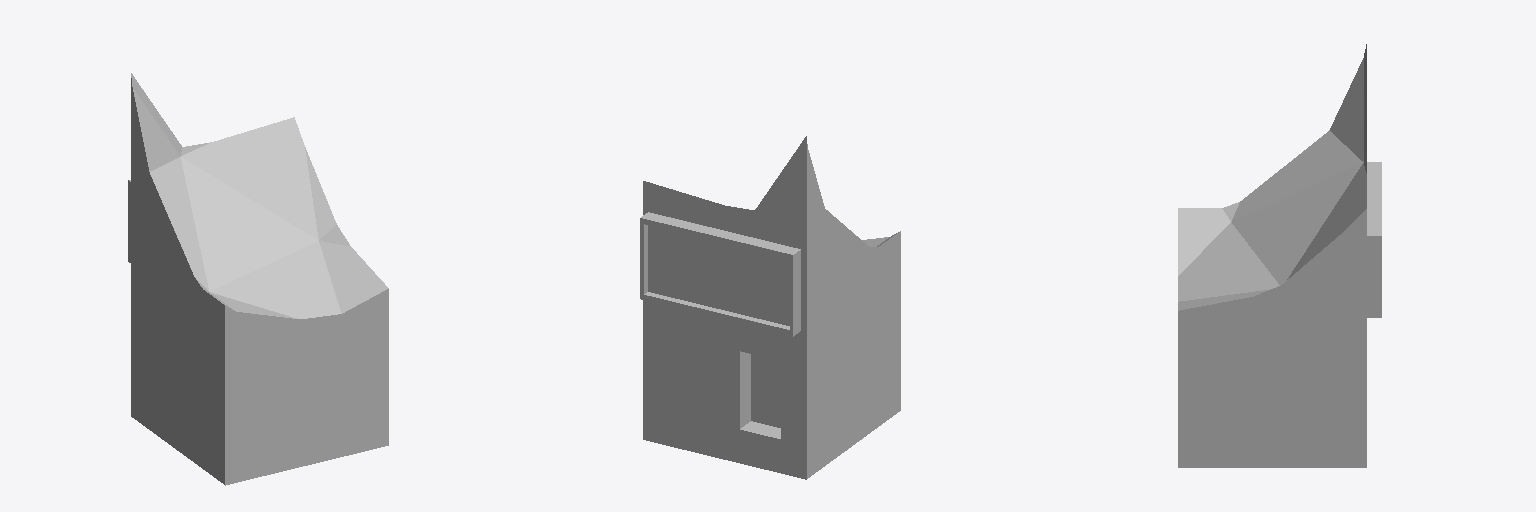
Rendered from building03.obj.
3 views of the same model, side by side, from view 1: azimuth 30°, elevation 25°; view 2: azimuth 150°, elevation 25°; view 3: azimuth 270°, elevation 25° (orthographic).
Parts seen in each view (by area): view 1: Cube.002_Cube.003; view 2: Cube.002_Cube.003; view 3: Cube.002_Cube.003.
Boxes of the visible parts, <box> form: Cube.002_Cube.003: <box>128,73,388,485</box>; Cube.002_Cube.003: <box>640,136,900,479</box>; Cube.002_Cube.003: <box>1178,44,1381,467</box>.
Size of the model in its own units: 1 by 2.01 by 1.08.